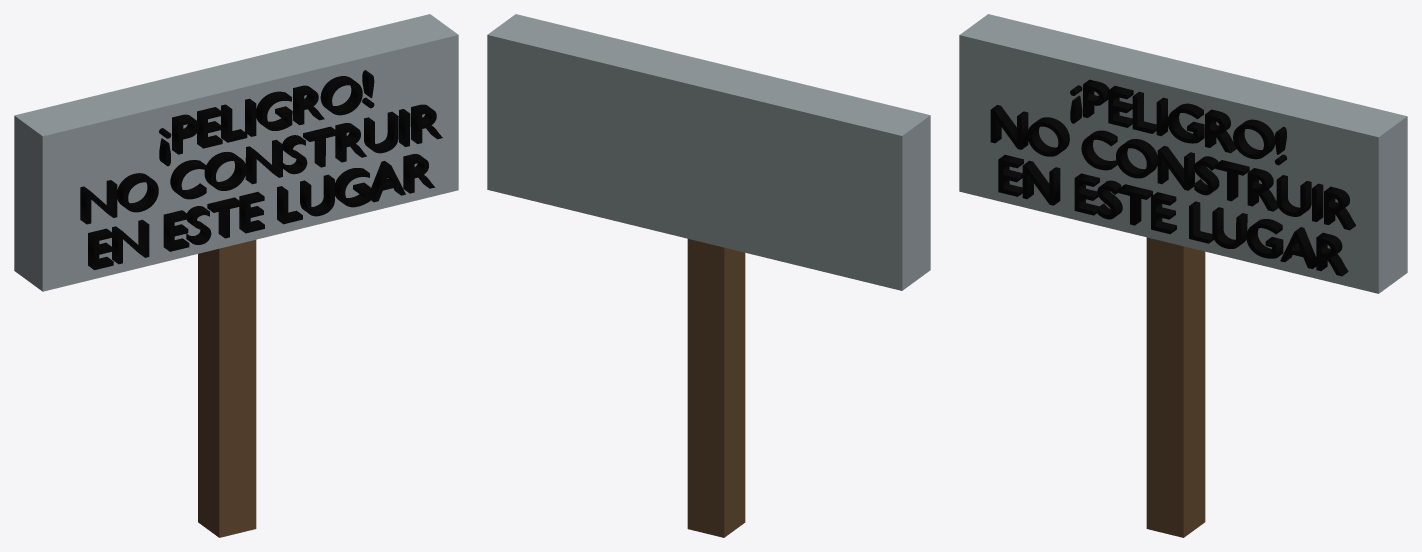
The model's file is PeligroNoConstruir.glb.
3 views of the same model, side by side, from view 1: azimuth 30°, elevation 25°; view 2: azimuth 150°, elevation 25°; view 3: azimuth 330°, elevation 25° (orthographic).
Visible parts, largest first — view 1: Cubo.010, Texto.002, Cubo.001; view 2: Cubo.010, Cubo.001; view 3: Cubo.010, Texto.002, Cubo.001.
Boxes of the visible parts, x1,y1,x2,y2 form: Cubo.010: (14,14,458,291); Texto.002: (80,70,442,270); Cubo.001: (198,240,256,537); Cubo.010: (487,14,930,290); Cubo.001: (687,239,745,537); Cubo.010: (959,14,1407,293); Texto.002: (990,79,1355,276); Cubo.001: (1146,237,1205,537).
Bounding box in the file's own units: 3.47 × 3.58 × 0.5071.
